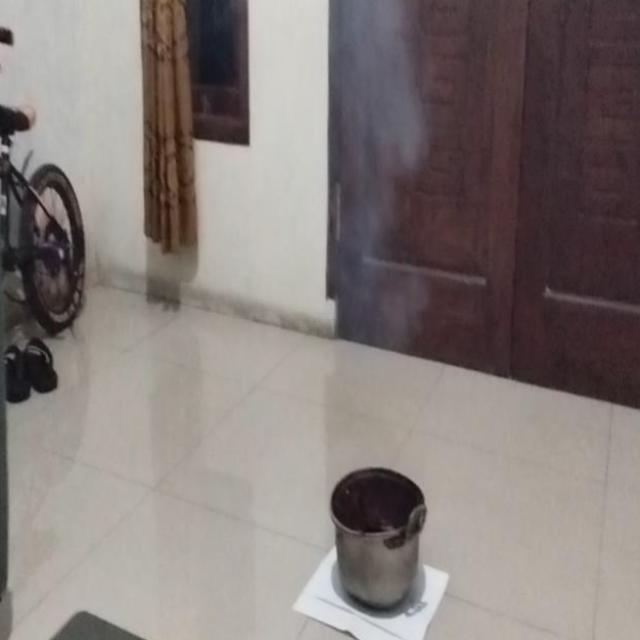fire: (323, 0, 434, 358)
